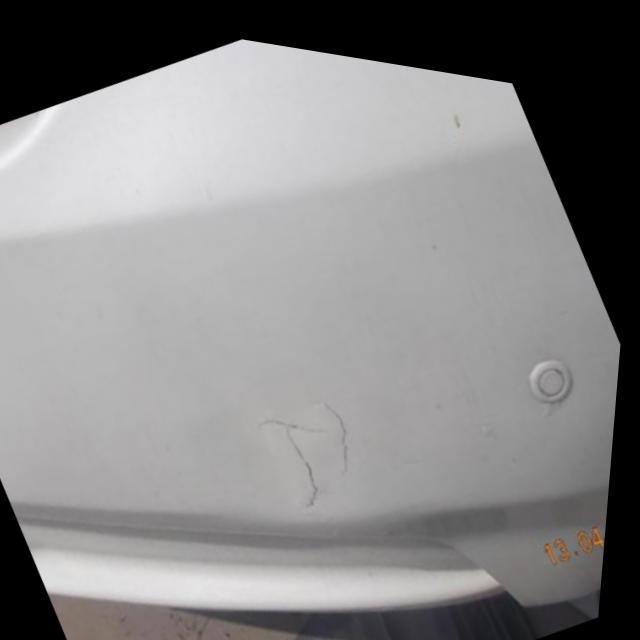scratch: (266, 405, 334, 498), (309, 376, 364, 461)
